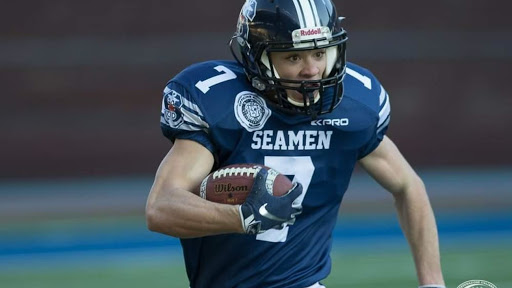futbol americano: (194, 164, 293, 202)
